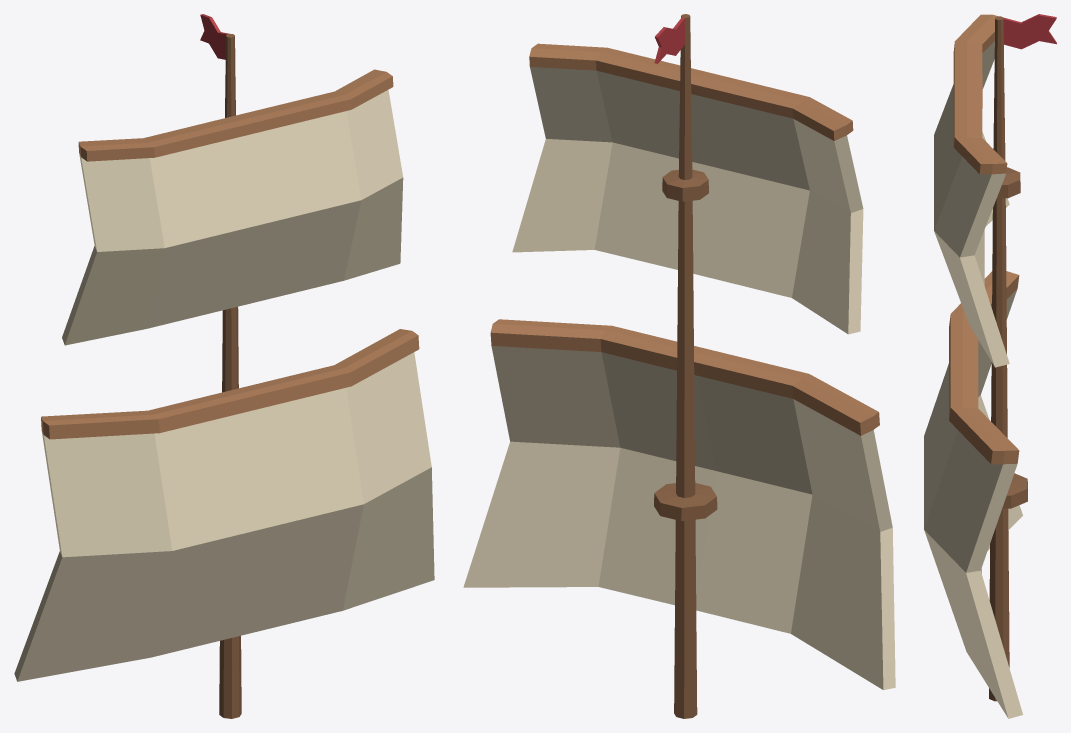
Rendered from nau inimiga canhao mastros.fbx.
3 renders of one model, left to right at view 1: azimuth 30°, elevation 25°; view 2: azimuth 150°, elevation 25°; view 3: azimuth 270°, elevation 25°, orthographic. The views are drawn at different scales.
Visible parts, largest first — view 1: Front Sail.002, BigShip.012, BigShip.011; view 2: Front Sail.002, BigShip.012, BigShip.011; view 3: Front Sail.002, BigShip.012, BigShip.011.
Part boxes in pixels (x1=…): Front Sail.002: x1=14, y1=69, x2=434, y2=681; BigShip.012: x1=219, y1=34, x2=241, y2=718; BigShip.011: x1=200, y1=14, x2=229, y2=59; Front Sail.002: x1=463, y1=43, x2=895, y2=690; BigShip.012: x1=654, y1=14, x2=717, y2=718; BigShip.011: x1=654, y1=17, x2=684, y2=63; Front Sail.002: x1=924, y1=14, x2=1022, y2=718; BigShip.012: x1=989, y1=16, x2=1027, y2=701; BigShip.011: x1=1003, y1=14, x2=1056, y2=49.
Size of the model in its own units: 561 by 876 by 155.
